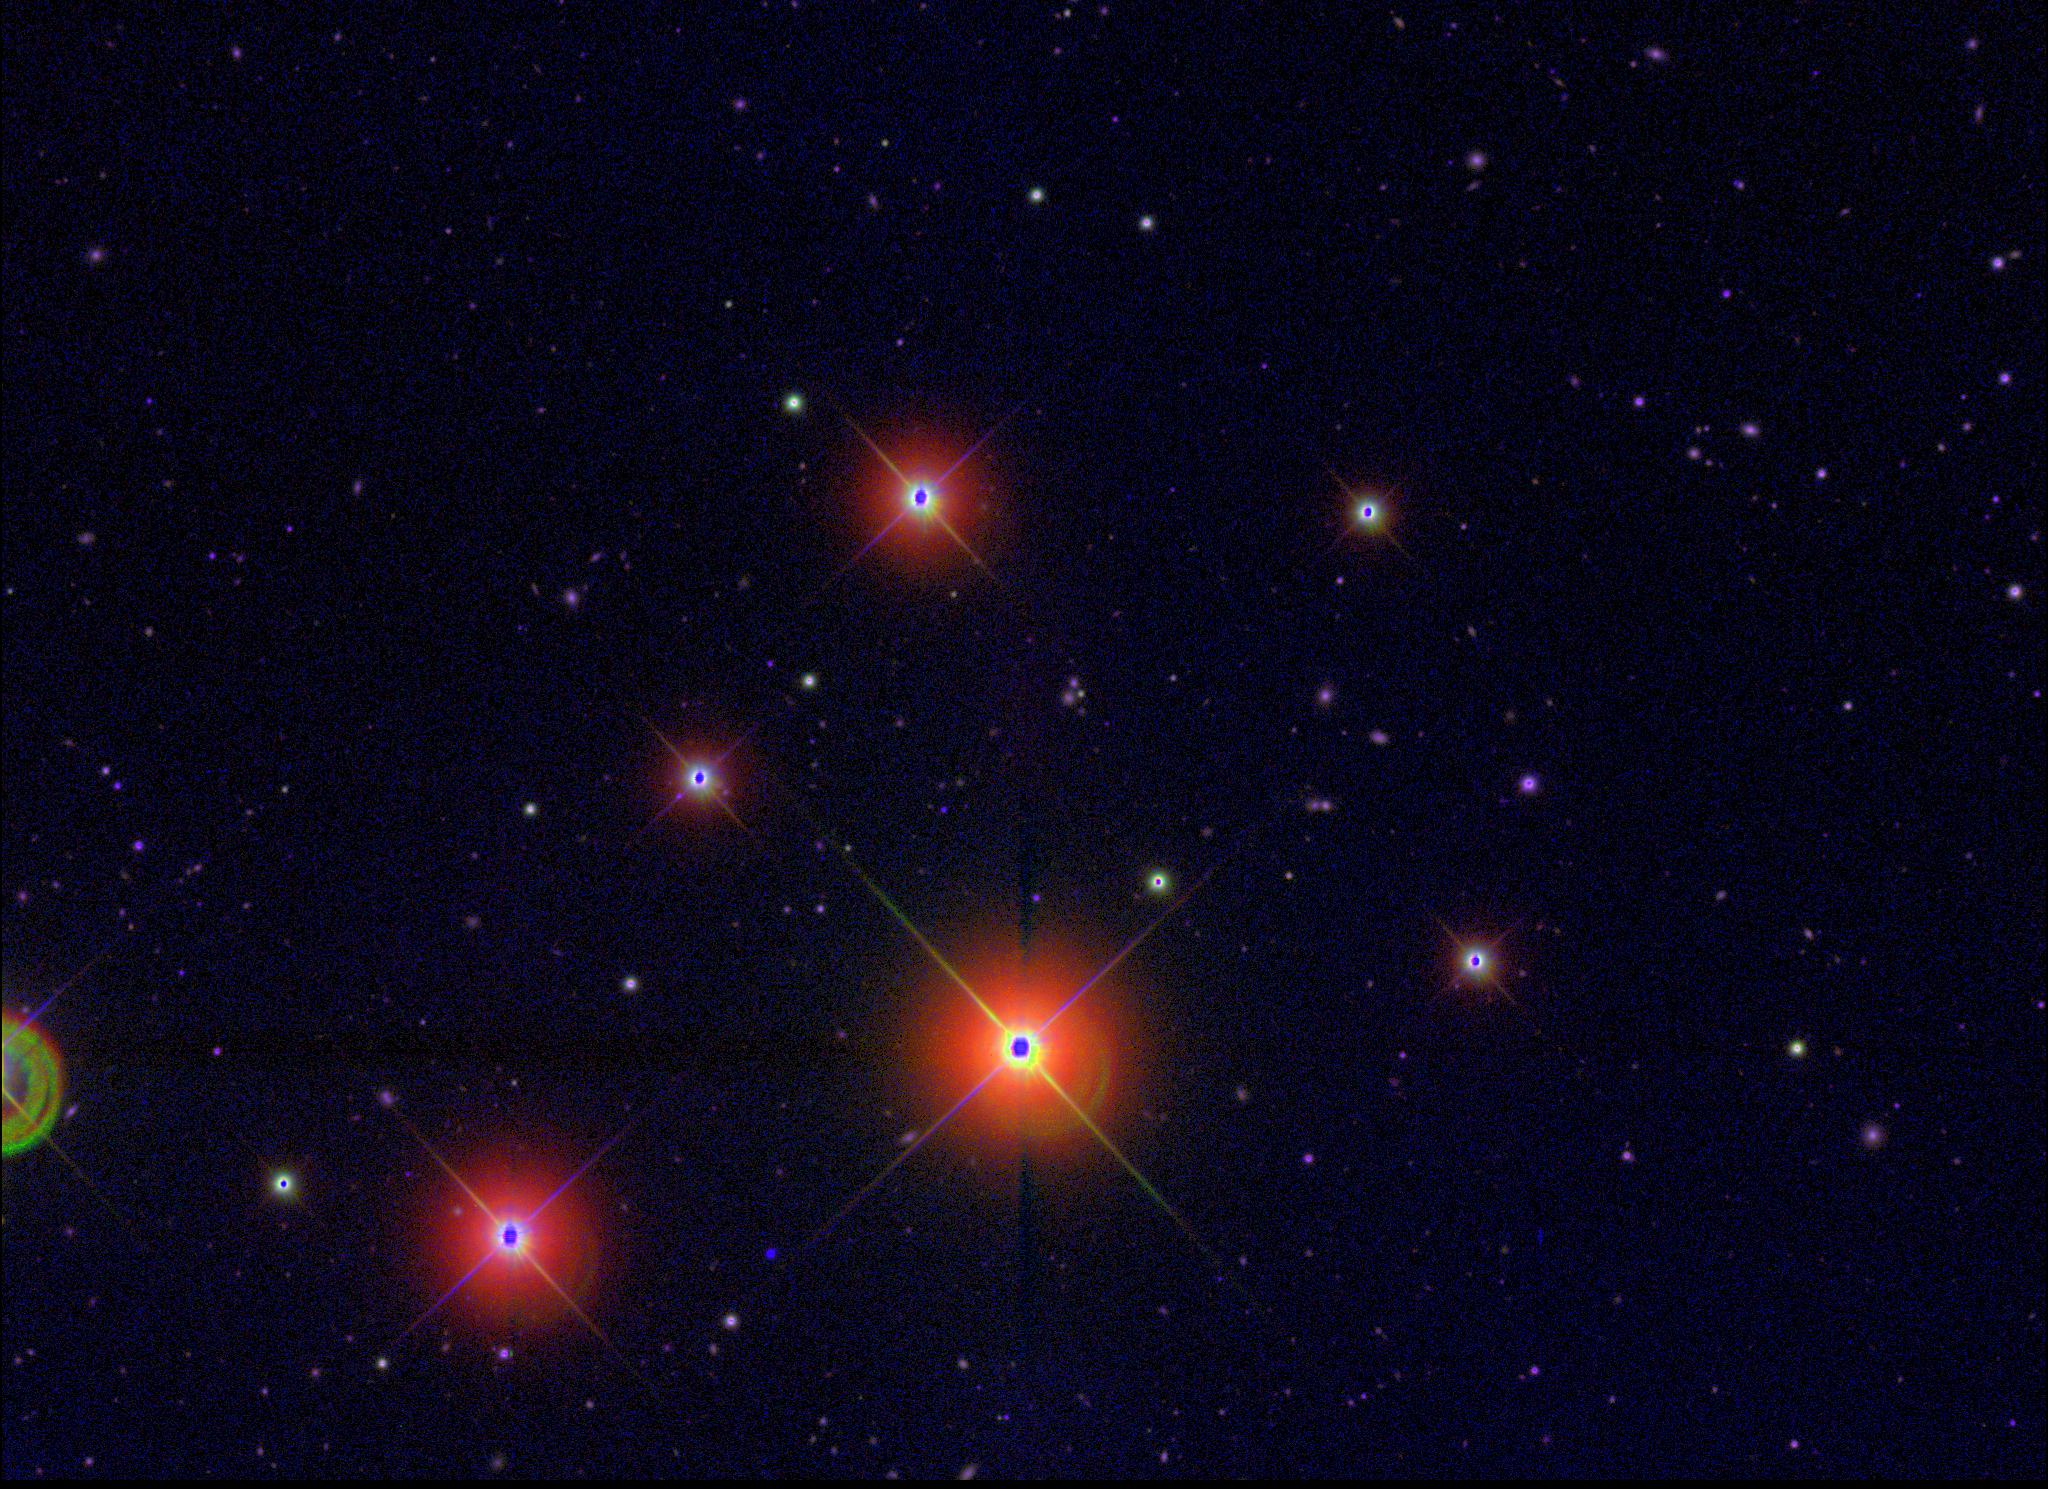L: (763, 1247, 778, 1262)
